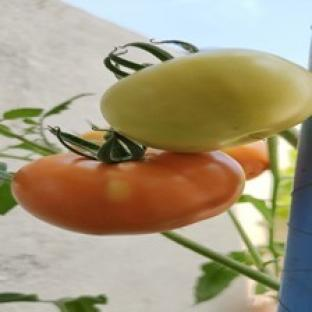Tomato: (101, 49, 311, 151), (12, 151, 245, 233), (223, 141, 268, 179), (81, 130, 107, 146)
